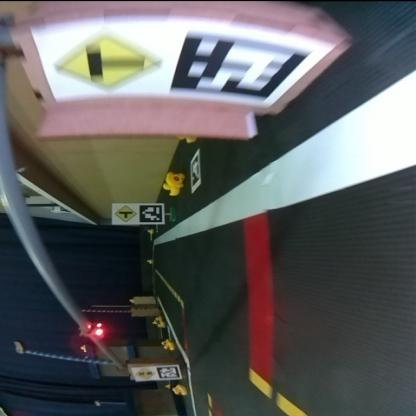Duckie: (165, 172, 184, 186), (162, 182, 180, 194), (174, 384, 182, 394), (164, 344, 172, 350), (160, 339, 168, 345)
Intersection sign: (56, 37, 162, 92), (112, 205, 134, 223)
QR code: (172, 25, 320, 106), (188, 148, 200, 191), (138, 205, 162, 223), (160, 368, 180, 378)
Signal sign: (134, 366, 154, 380)
Traffic light: (79, 322, 104, 336)
